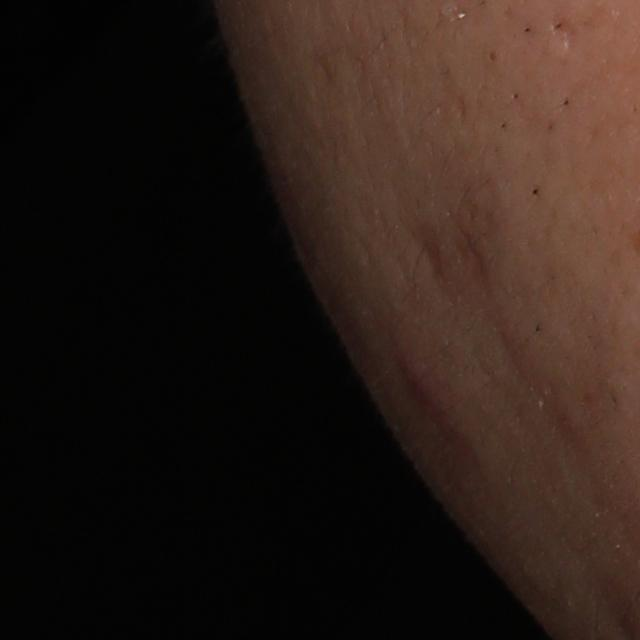atrophic_scar: (546, 14, 580, 52)
papule: (392, 339, 462, 414)
